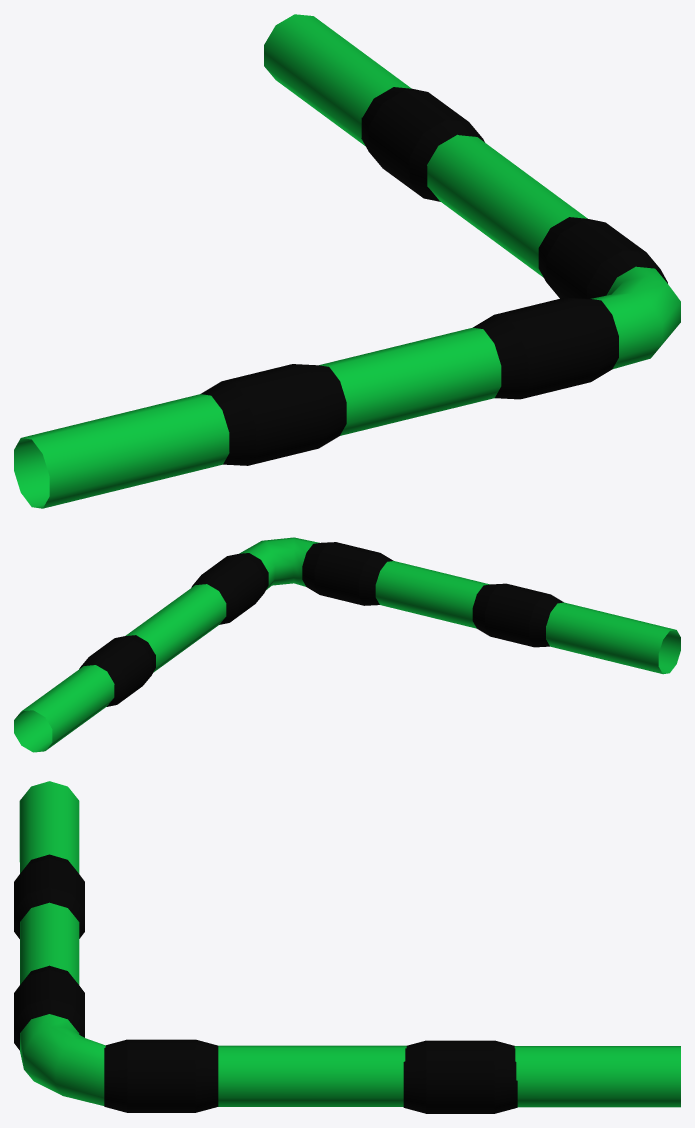
File: Pipes_Curved.fbx
3 renders of one model, top to bottom at view 1: azimuth 30°, elevation 25°; view 2: azimuth 150°, elevation 25°; view 3: azimuth 270°, elevation 25°, orthographic. The views are drawn at different scales.
Parts seen in each view (by area): view 1: polySurface2; view 2: polySurface2; view 3: polySurface2.
Part boxes in pixels (x1,y1,x2,y2): polySurface2: (14,14,680,508); polySurface2: (14,537,680,752); polySurface2: (14,781,680,1113).
Size of the model in its own units: 245 by 30.73 by 250.
1 material, 1 textured.
